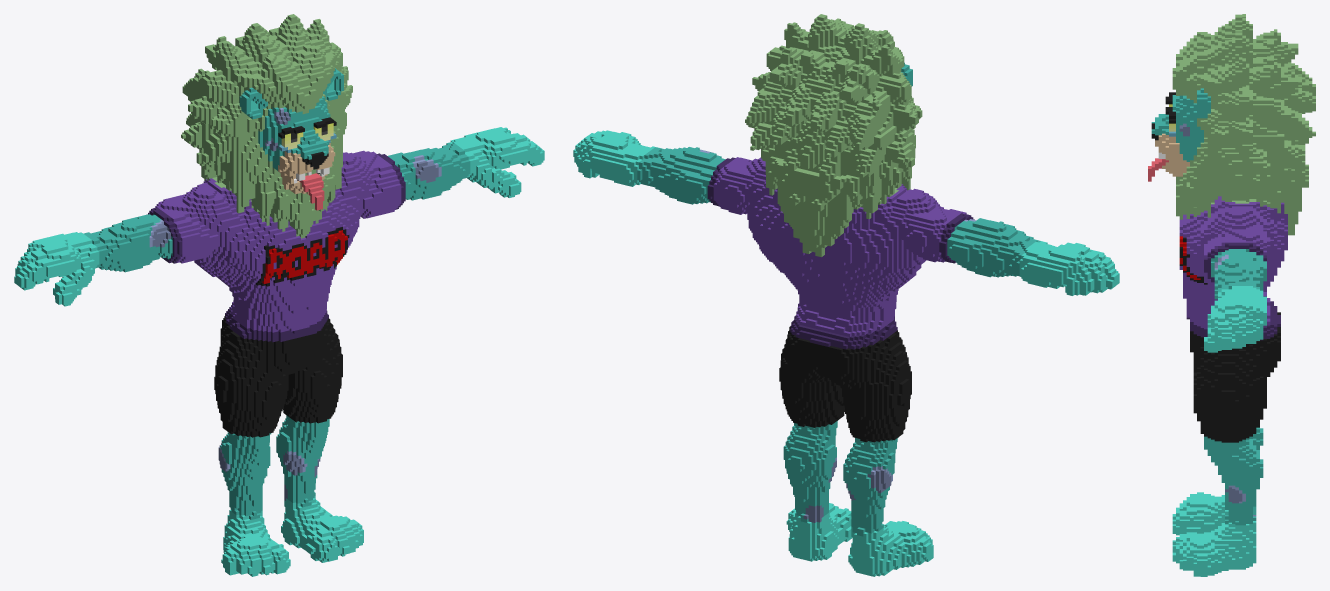
Rendered from 884-DMKKoDfi.glb.
The picture shows the model from 3 angles, left to right: view 1: azimuth 30°, elevation 25°; view 2: azimuth 150°, elevation 25°; view 3: azimuth 270°, elevation 25°; orthographic projection. The views are drawn at different scales.
Visible parts, largest first — view 1: tongue_out; view 2: tongue_out; view 3: tongue_out.
Part boxes in pixels (x1,y1,x2,y2): tongue_out: (14, 14, 544, 576); tongue_out: (573, 14, 1119, 576); tongue_out: (1148, 14, 1315, 576).
Size of the model in its own units: 17.2 by 16.5 by 4.8.
5 materials, 5 textured.
